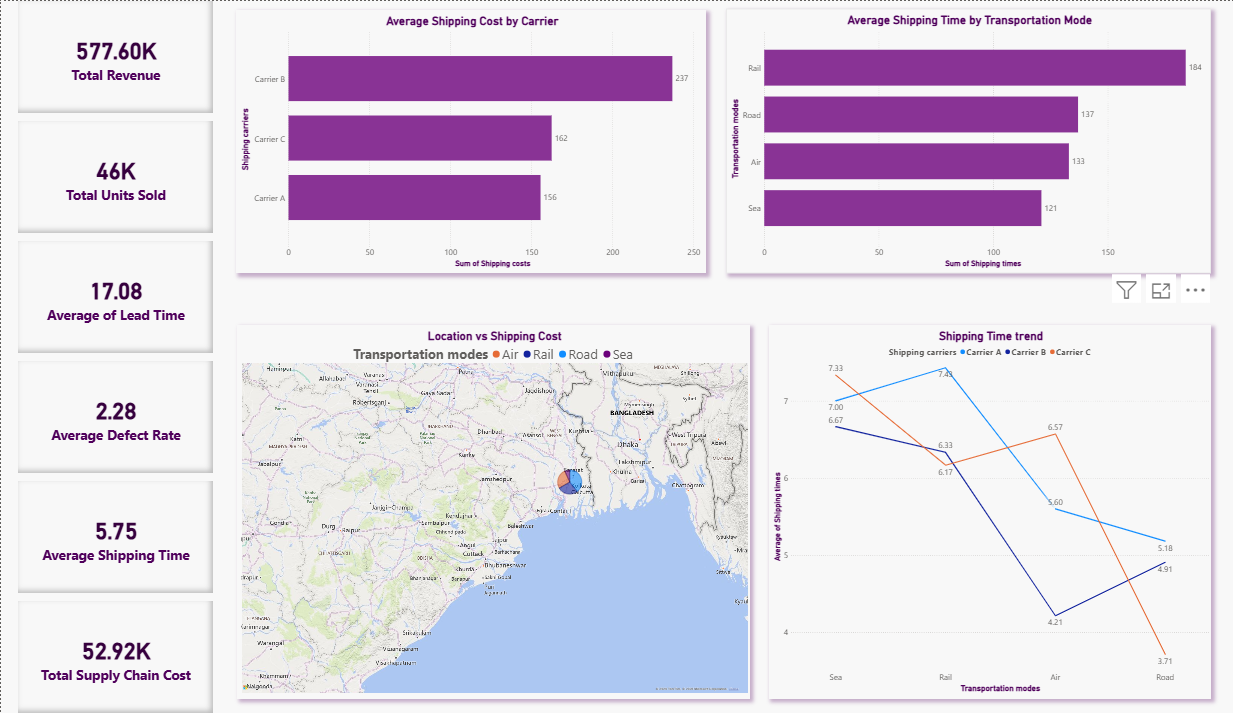

Layout of this report page (visuals, bound fields, positions):
{"tool":"powerbi","page":{"name":"Logistics & Shipping Analysis","canvas":[3291,1900],"ordinal":3},"visuals":[{"type":"card","fields":{"Values":["Sum(supply_chain_data.Revenue generated)"]},"box":[45,0,520,300],"z":0},{"type":"card","fields":{"Values":["Sum(supply_chain_data.Number of products sold)"]},"box":[45,320,520,300],"z":1000},{"type":"card","fields":{"Values":["Avg(supply_chain_data.Lead time)"]},"box":[45,640,520,300],"z":2000},{"type":"card","fields":{"Values":["Sum(supply_chain_data.Costs)"]},"box":[45,1600,520,300],"z":3000},{"type":"card","fields":{"Values":["Avg(supply_chain_data.Shipping times)"]},"box":[45,1280,520,300],"z":4000},{"type":"card","fields":{"Values":["Avg(supply_chain_data.Defect rates)"]},"box":[45,960,520,300],"z":5000},{"type":"barChart","title":"Average Shipping Cost by Carrier","fields":{"Category":["supply_chain_data.Shipping carriers"],"Y":["Sum(supply_chain_data.Shipping costs)"]},"box":[626.7,23.3,1253.3,703.3],"z":6000},{"type":"map","title":"Location vs Shipping Cost","fields":{"Category":["supply_chain_data.Location"],"Size":["Sum(supply_chain_data.Shipping costs)"],"Series":["supply_chain_data.Transportation modes"]},"box":[630,863.3,1366.7,996.7],"z":7000},{"type":"barChart","title":"Average Shipping Time by Transportation Mode","fields":{"Y":["Sum(supply_chain_data.Shipping times)"],"Category":["supply_chain_data.Transportation modes"]},"box":[1933.3,20,1293.3,706.7],"z":8000},{"type":"lineChart","title":"Shipping Time trend","fields":{"Category":["supply_chain_data.Transportation modes"],"Y":["Avg(supply_chain_data.Shipping times)"],"Series":["supply_chain_data.Shipping carriers"]},"box":[2046.7,863.3,1180,996.7],"z":8002}]}

Visuals, with their boxes in screenshot pixels (x1, y1, x2, y2), scaled from the page's 3291x1900 canvas onto the 1233x713 screenshot:
card - Sum(supply_chain_data.Revenue generated): {"left": 17, "top": 0, "right": 212, "bottom": 113}
card - Sum(supply_chain_data.Number of products sold): {"left": 17, "top": 120, "right": 212, "bottom": 233}
card - Avg(supply_chain_data.Lead time): {"left": 17, "top": 240, "right": 212, "bottom": 353}
card - Sum(supply_chain_data.Costs): {"left": 17, "top": 600, "right": 212, "bottom": 712}
card - Avg(supply_chain_data.Shipping times): {"left": 17, "top": 480, "right": 212, "bottom": 593}
card - Avg(supply_chain_data.Defect rates): {"left": 17, "top": 360, "right": 212, "bottom": 473}
"Average Shipping Cost by Carrier" barChart: {"left": 235, "top": 9, "right": 704, "bottom": 273}
"Location vs Shipping Cost" map: {"left": 236, "top": 324, "right": 748, "bottom": 698}
"Average Shipping Time by Transportation Mode" barChart: {"left": 724, "top": 8, "right": 1209, "bottom": 273}
"Shipping Time trend" lineChart: {"left": 767, "top": 324, "right": 1209, "bottom": 698}
